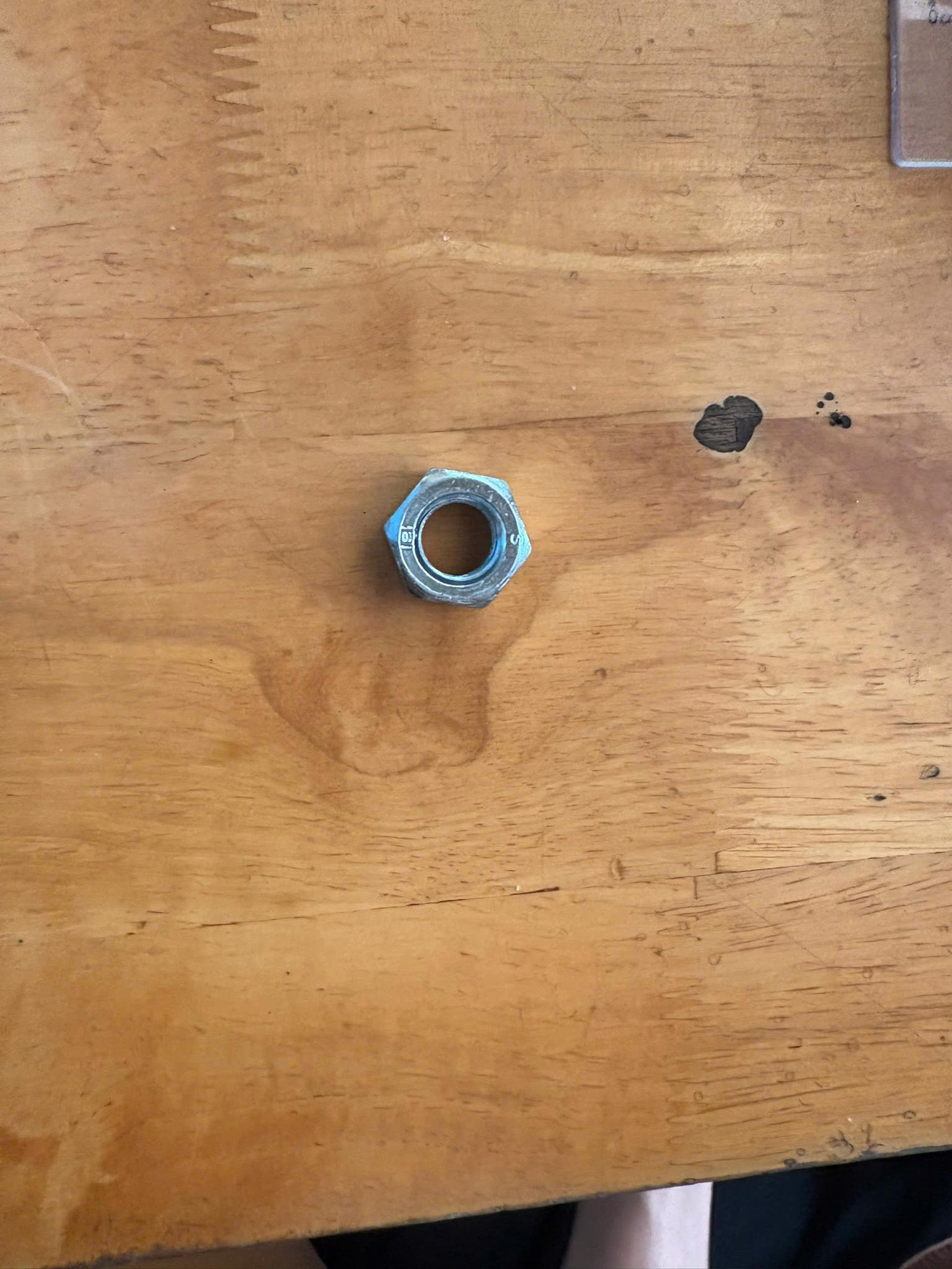nut: (342, 452, 539, 627)
